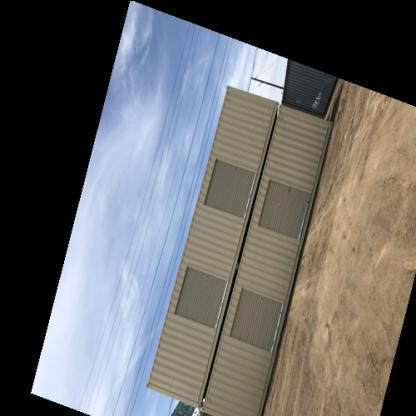Damage: (286, 182, 294, 198), (231, 165, 240, 176)
